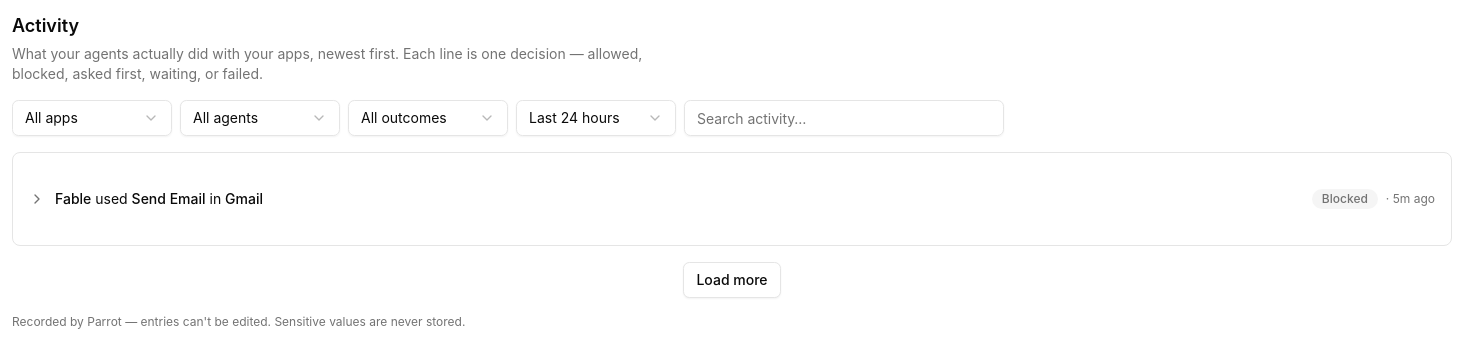
Test case: AuditTab › loads more when a cursor is returned
Check: the text "Read Email" is not shown
What coordinates should you click on to do the following:
click the button "Load more"
I would click on:
 (732, 280)
Its box is [683,262,780,298].
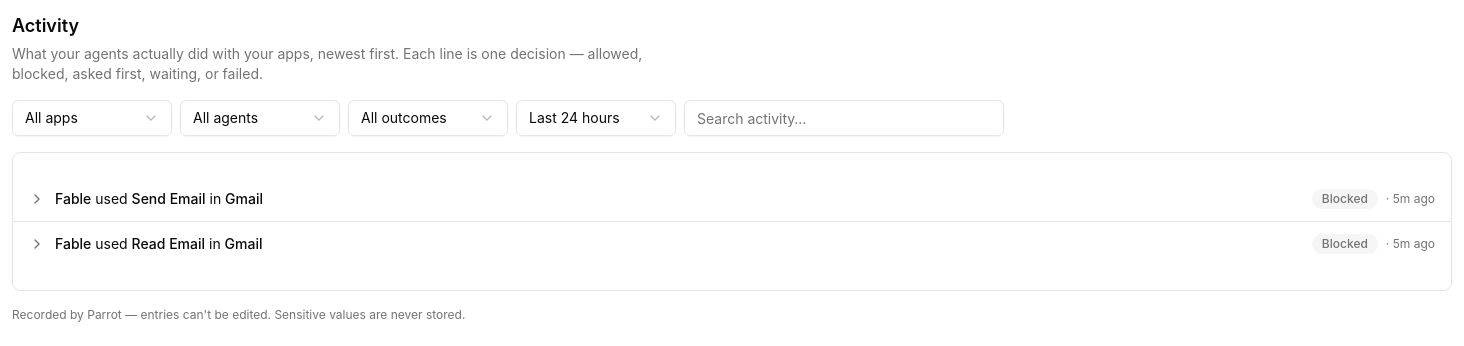
Check: the text "Read Email" is shown, box [132,235,205,252]
